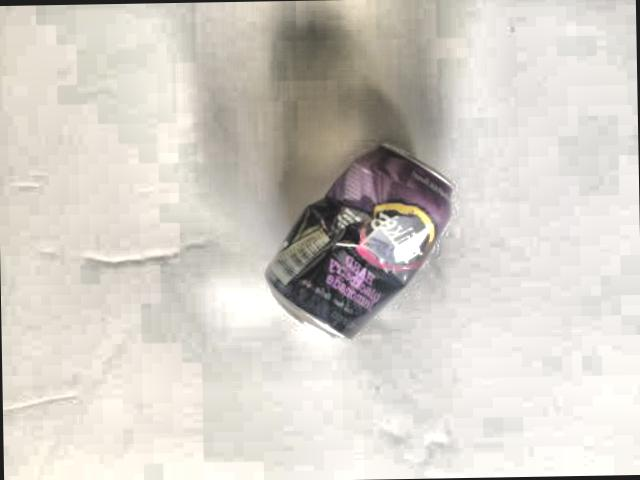Bottles: (251, 133, 467, 367)
